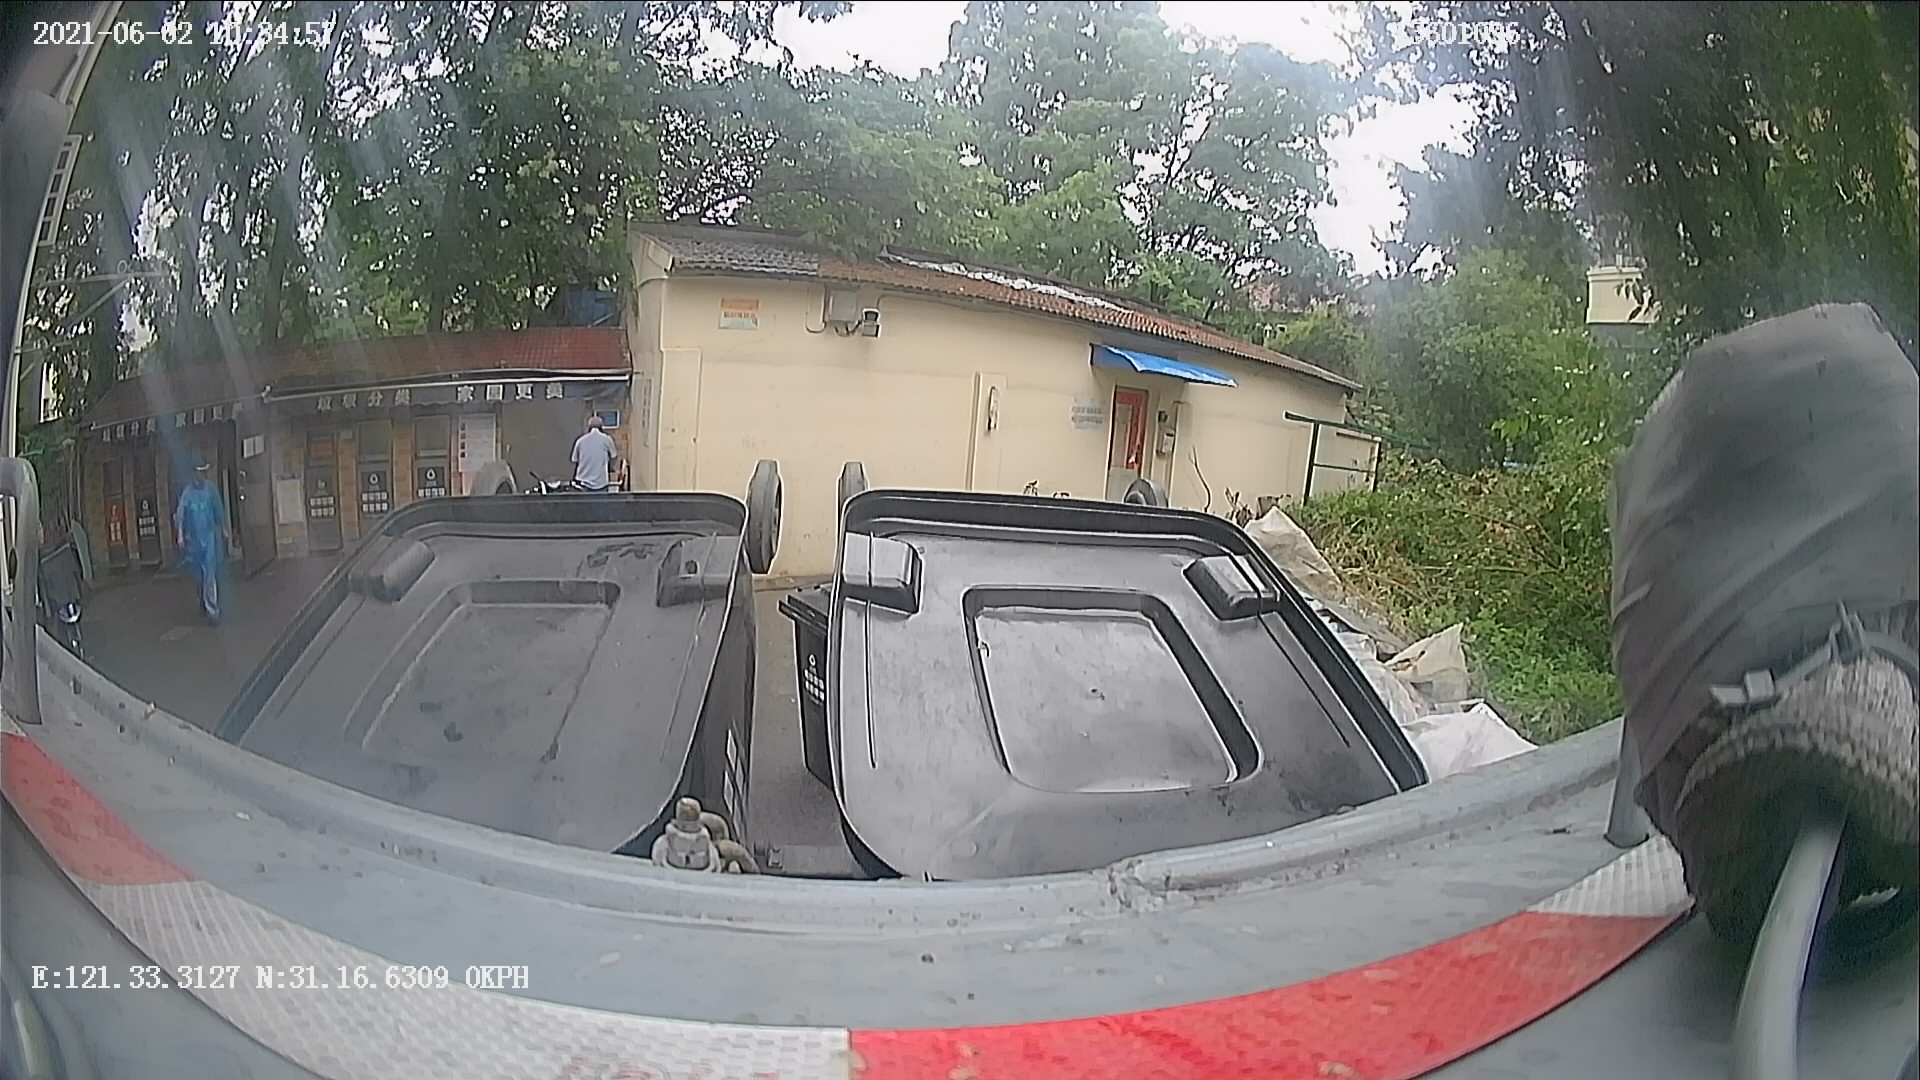Dry_garbage: (203, 433, 709, 1030), (793, 439, 1290, 1027)
